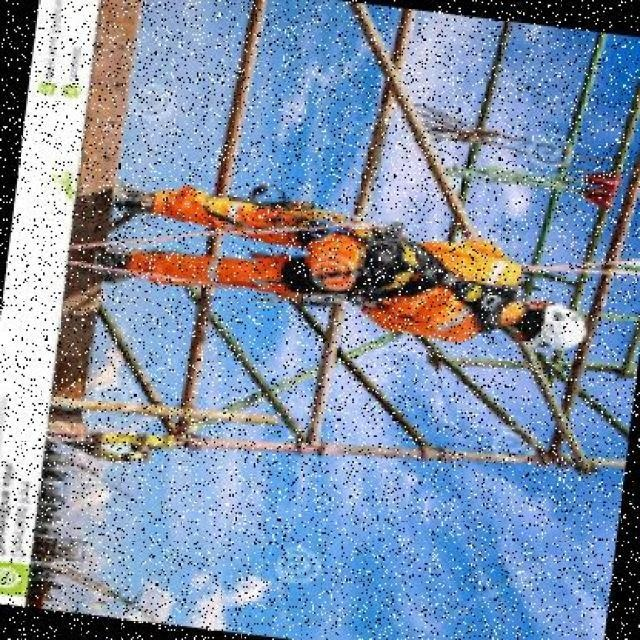Arnes_seguridad: (235, 181, 531, 345)
